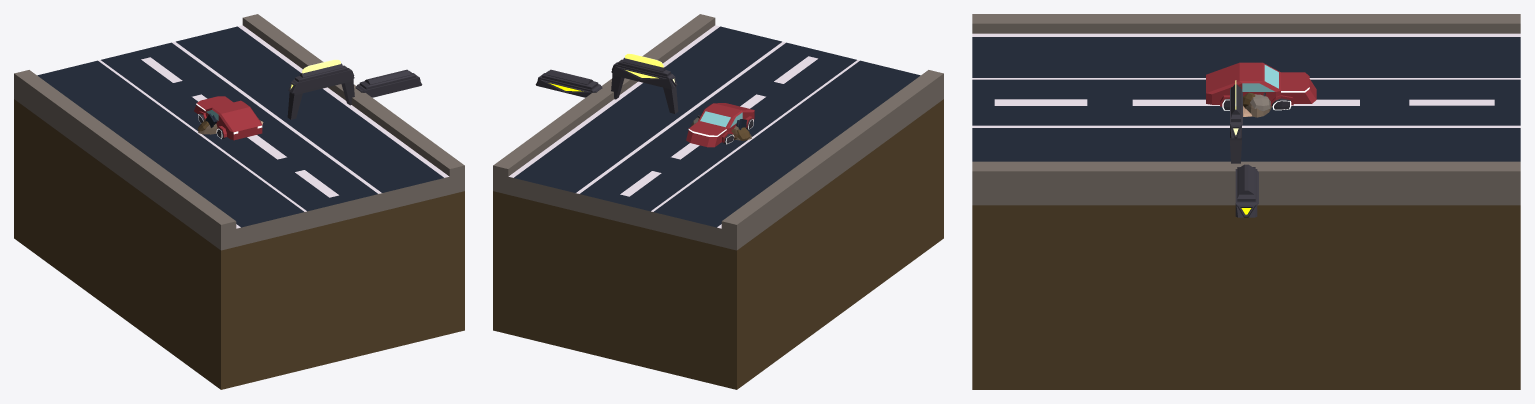
Rendered from Barrier.fbx.
3 views of the same model, side by side, from view 1: azimuth 30°, elevation 25°; view 2: azimuth 150°, elevation 25°; view 3: azimuth 270°, elevation 25° (orthographic). The views are drawn at different scales.
Parts seen in each view (by area): view 1: Cube, Cube.003, Cube.001, Cube.002; view 2: Cube, Cube.003, Cube.001, Cube.002; view 3: Cube, Cube.003, Cube.002, Cube.001, Cube.007.
Part boxes in pixels (x1,y1,x2,y2): Cube: [14, 14, 464, 389]; Cube.003: [194, 96, 262, 140]; Cube.001: [287, 59, 354, 119]; Cube.002: [355, 69, 422, 97]; Cube: [493, 14, 943, 389]; Cube.003: [686, 103, 754, 147]; Cube.001: [611, 53, 678, 113]; Cube.002: [535, 69, 602, 97]; Cube: [972, 14, 1520, 389]; Cube.003: [1206, 62, 1316, 110]; Cube.002: [1235, 164, 1258, 217]; Cube.001: [1230, 80, 1242, 163]; Cube.007: [1243, 62, 1272, 117].
Bounding box in the file's own units: 2109 × 1370 × 2500.
